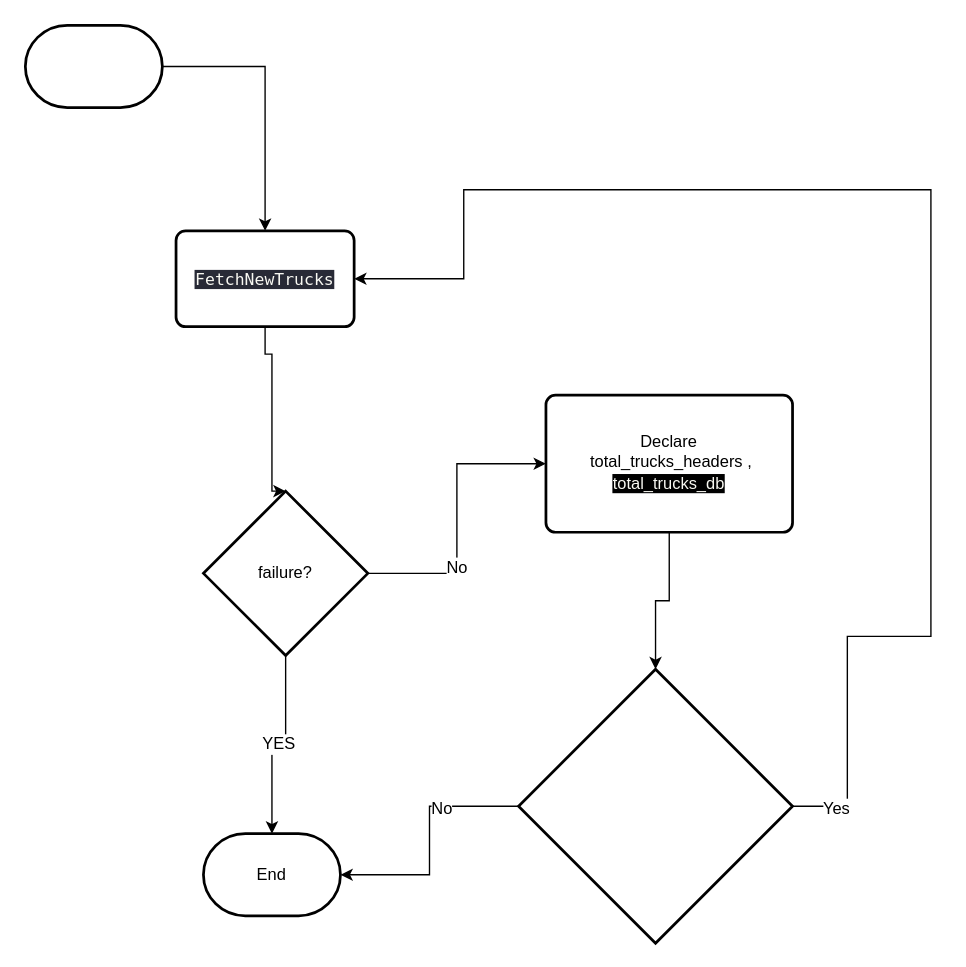
This 966x967 diagram has some shape labels left out. Here are the shapes that lost their labels. From the top down, the centre of each, then its label:
At point (93, 65): "Start".
At point (654, 805): "total_trucks_db < total_trucks_headers".
